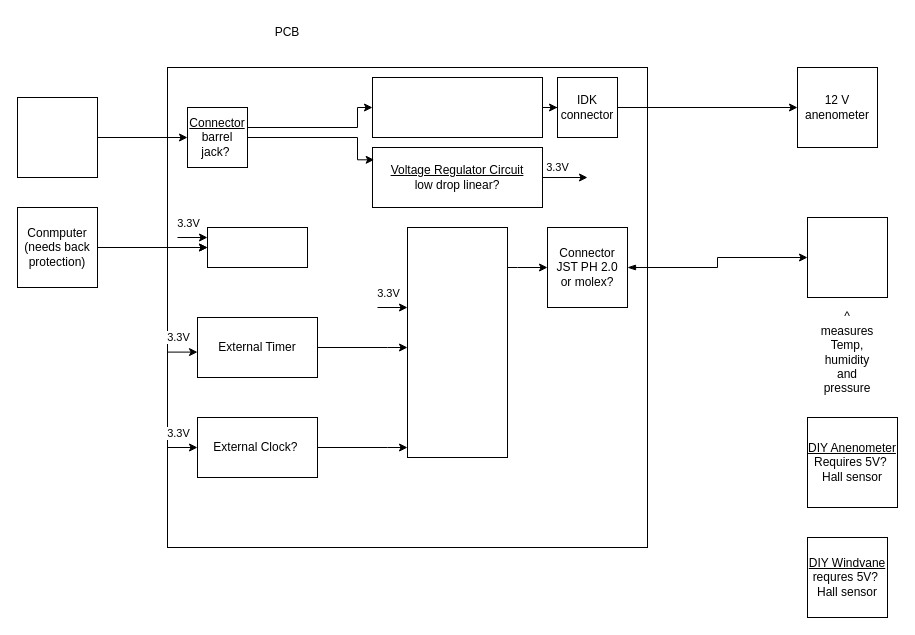
Some shapes in this 915 by 635 pixel diagram are drawn without their labels. The shapes that lost their labels are listed below. From the top down, each one's box as (x1, y1, x2, y2) in pixels, then its label:
(372, 76, 542, 138): Voltage Step Up Circuit to 12 V
(16, 96, 98, 178): Battery Voltgage? Amp?
(206, 226, 308, 268): programming header
(806, 216, 888, 298): BME 280
(406, 226, 508, 458): STM32L152RE microcontroller
